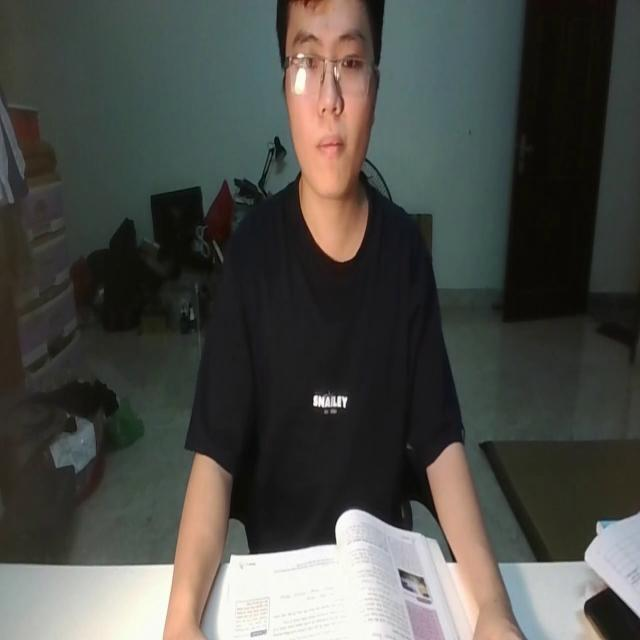student: (158, 0, 529, 640)
